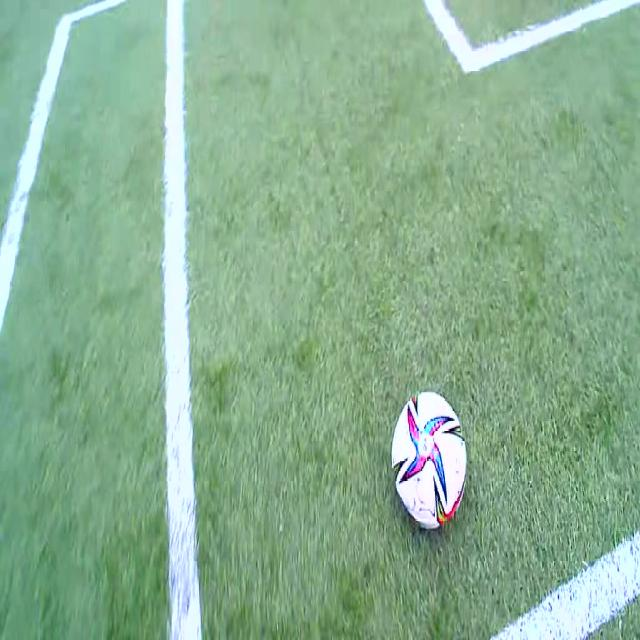ball: (392, 392, 466, 529)
